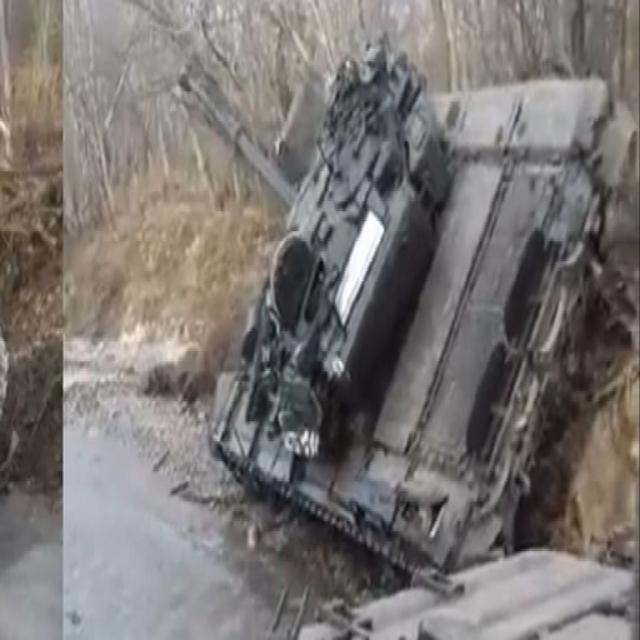TANK: (169, 35, 626, 616)
